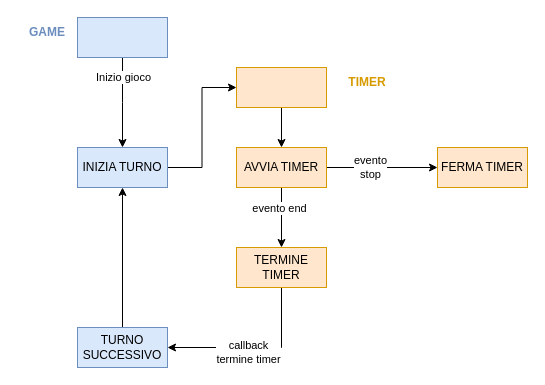
Image size: 545x385. Some labels were removed from this diagram. Each missing label, with the box of its shape:
READY: (76, 16, 168, 58)
RESET TIMER: (236, 66, 326, 108)
